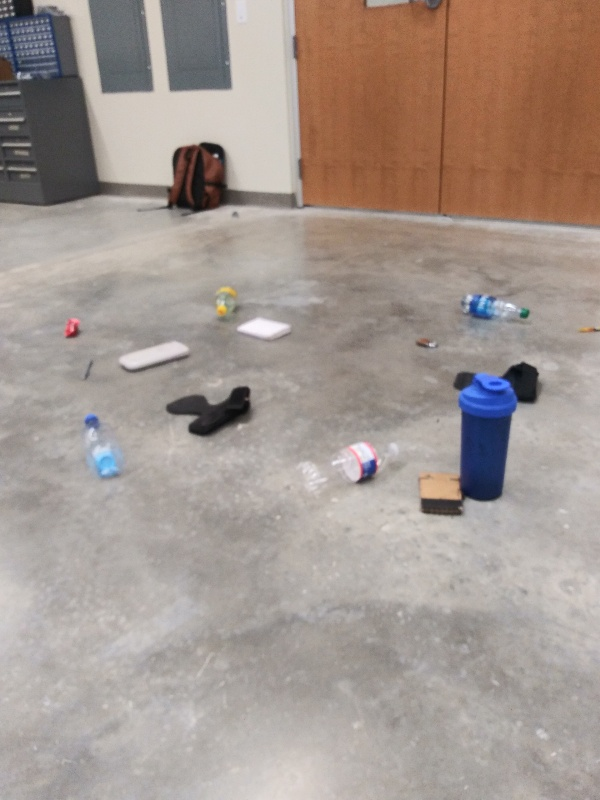bottle: (291, 434, 404, 499), (81, 411, 127, 480), (456, 289, 534, 324), (212, 280, 241, 320)
